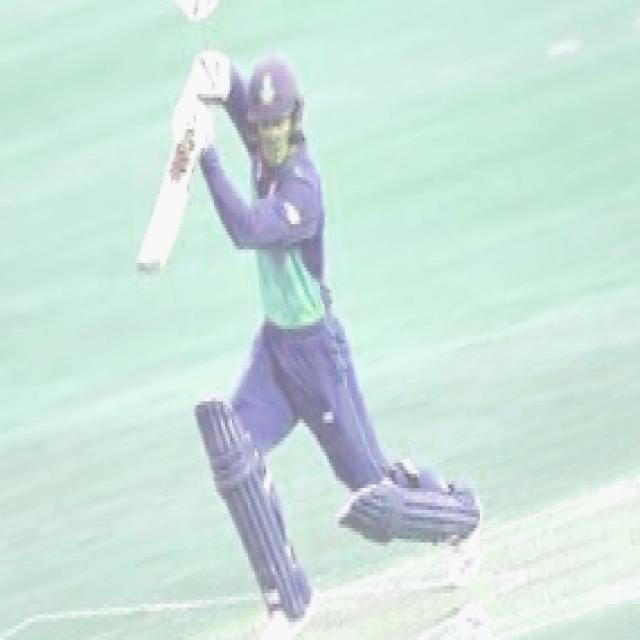bat: (136, 103, 202, 275)
toe: (136, 259, 165, 272)
